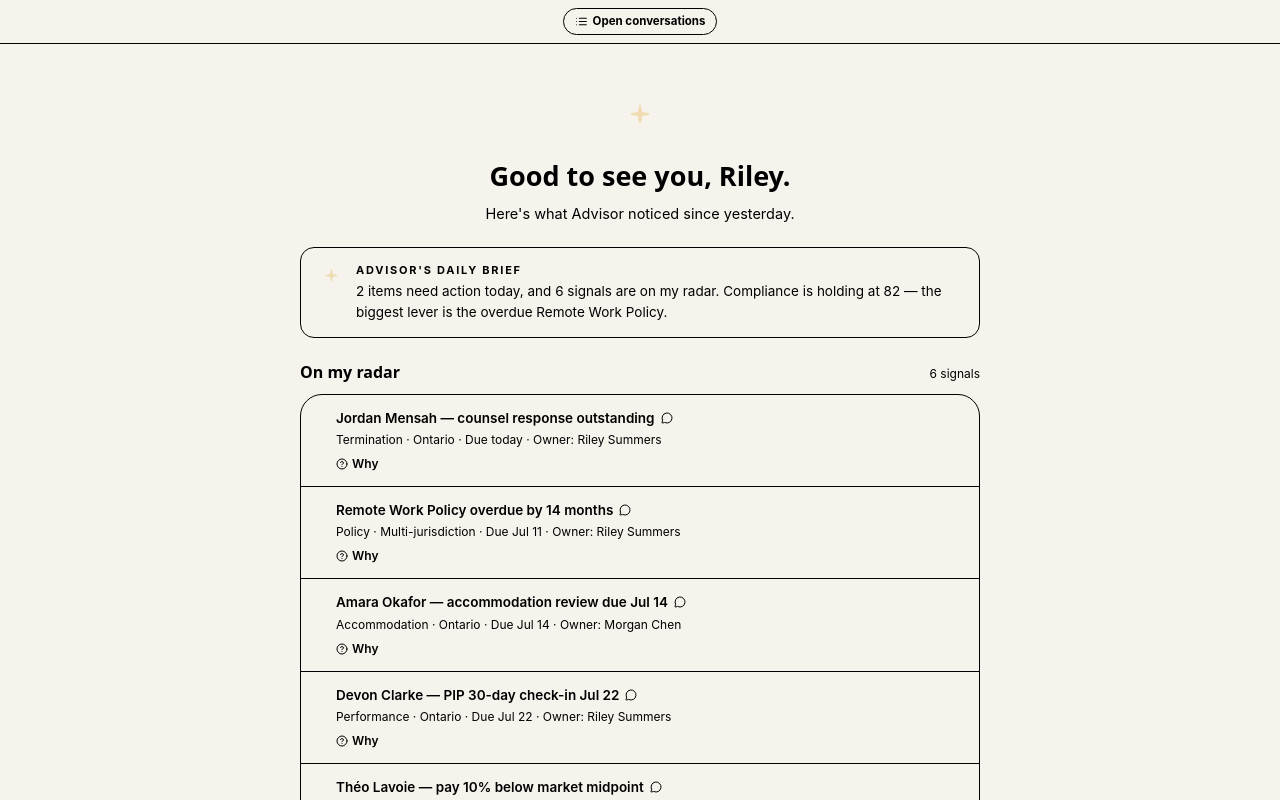
Test case: AdvisorView › renders the advisor home empty state with brief, radar and composer
This screenshot has width=1280, height=800.
Check: the heading "Good to see you, Riley." is shown, box [489,157,790,194]
Check: the text "Here's what Advisor noticed since yesterday." is shown, box [485,205,795,222]
Click the button "Open conversations" at (640, 22), box [562,8,718,35]
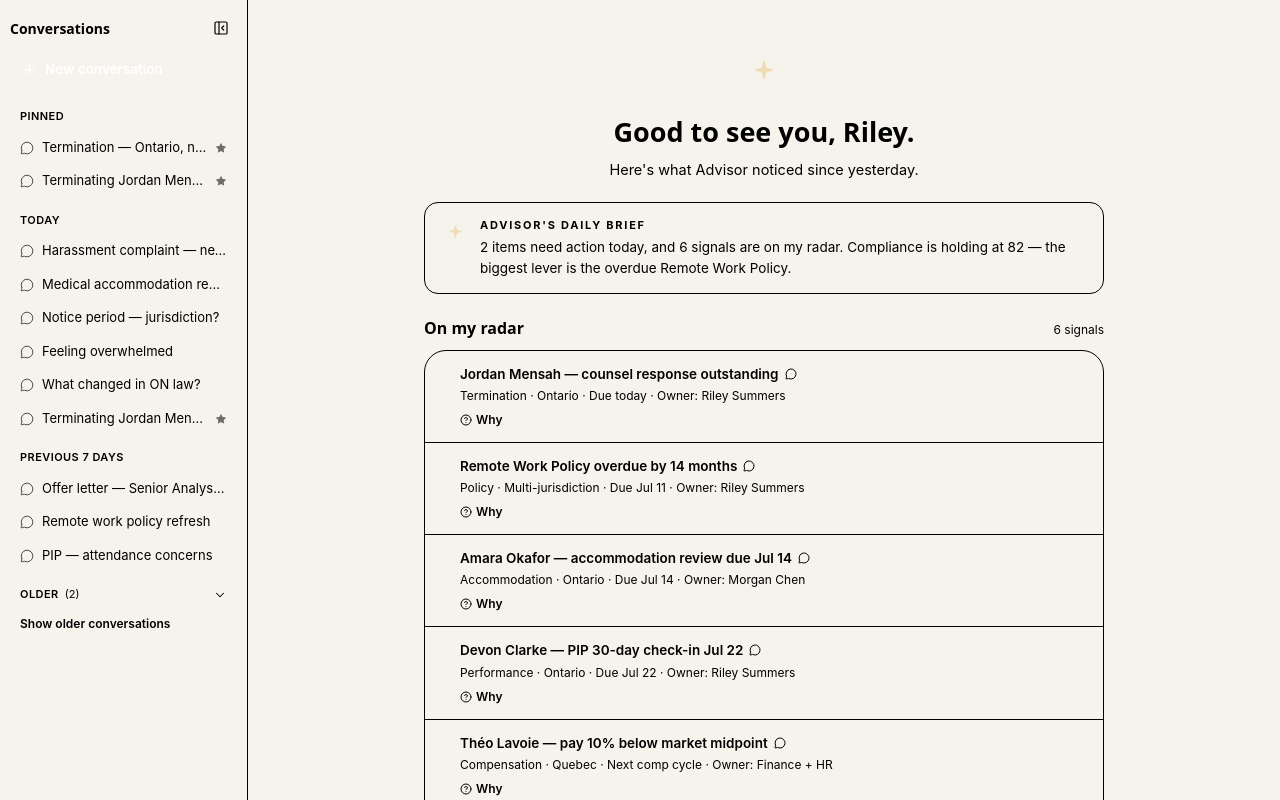
Check: the text "Pinned" is shown, box [20,109,64,123]
Check: the text "Previous 7 days" is shown, box [20,450,124,464]
Check: the text "Terminating Jordan Mensah — Ontario" below "Pinned" is shown, box [42,172,247,188]
